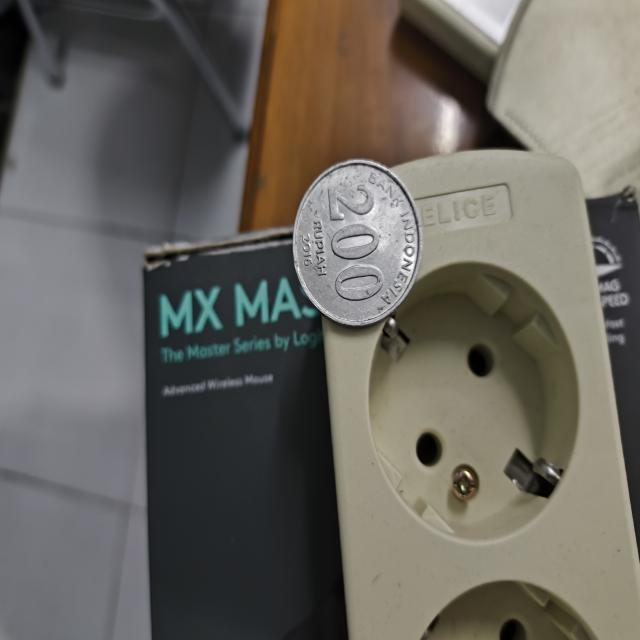1000-sawit: (292, 160, 422, 326)
